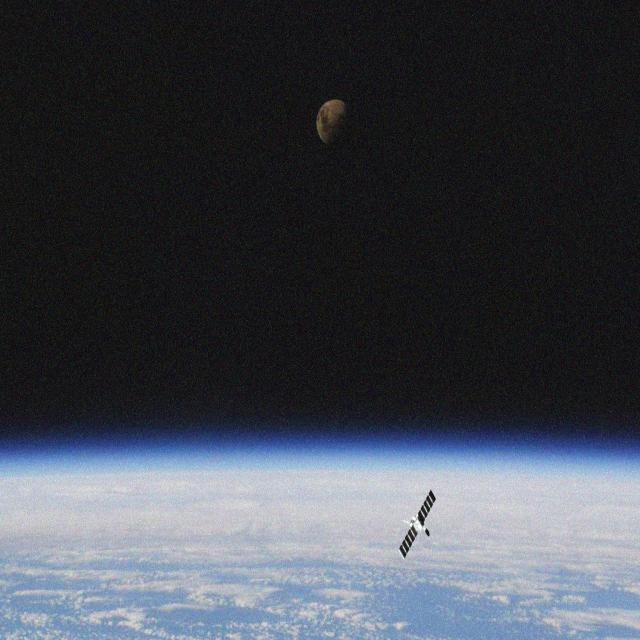satellite: (390, 486, 449, 568)
